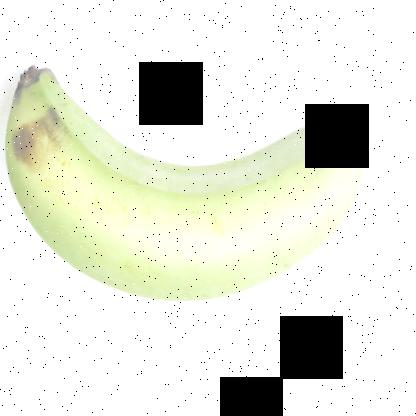freshunripe: (1, 46, 374, 314)
